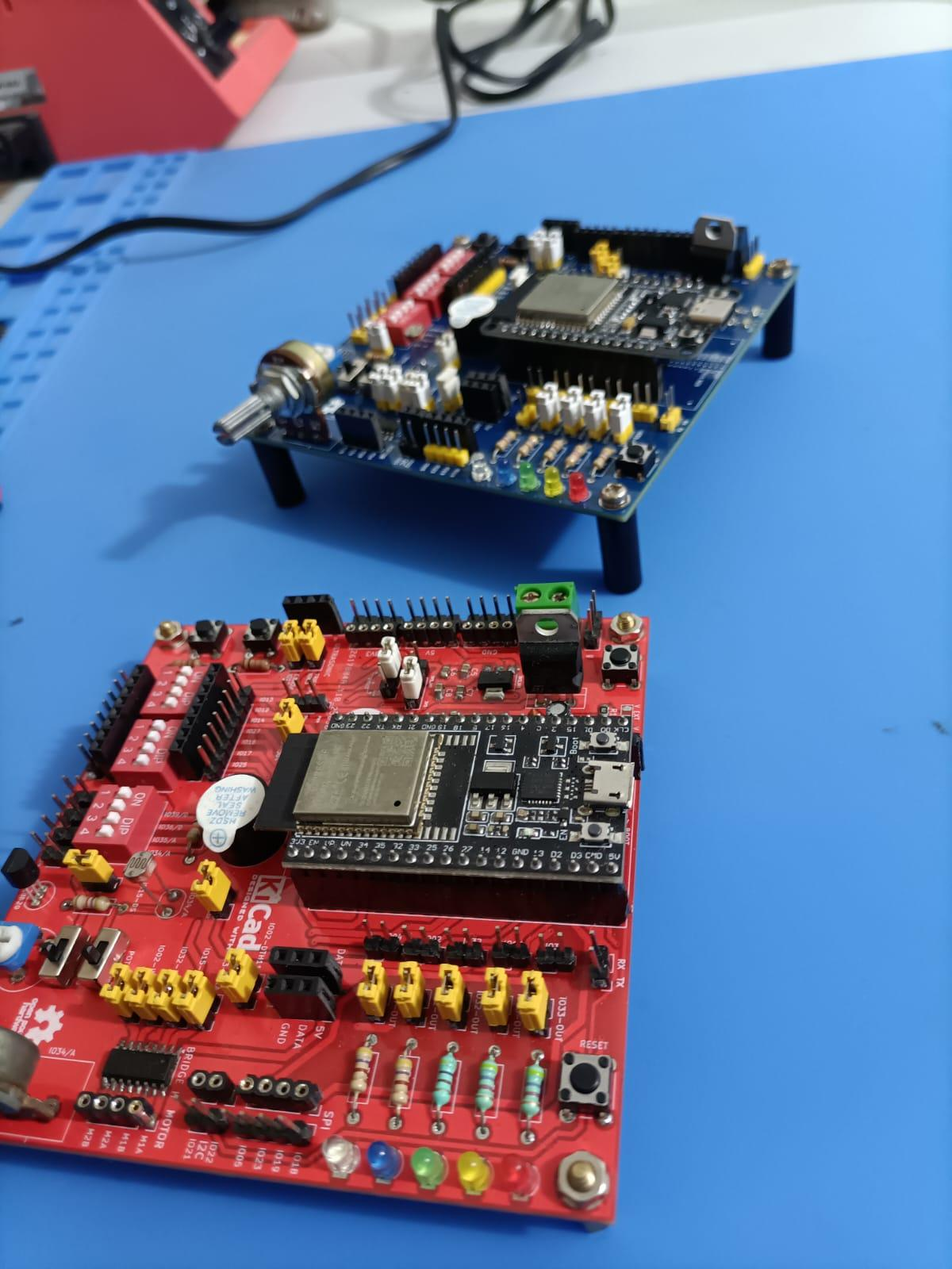LED: (497, 1145, 542, 1206), (451, 1145, 494, 1197), (364, 1137, 401, 1189), (409, 1143, 449, 1190), (316, 1136, 358, 1174), (515, 459, 539, 498), (490, 452, 515, 487), (566, 470, 591, 504), (465, 450, 491, 482), (541, 464, 563, 497)
Resistencia: (53, 887, 122, 913), (392, 1052, 417, 1112), (436, 1049, 461, 1109), (525, 1061, 550, 1121), (476, 1054, 500, 1114), (352, 1043, 376, 1103), (231, 657, 279, 676), (171, 653, 208, 672), (186, 816, 205, 849), (533, 427, 548, 460), (579, 438, 594, 470), (554, 430, 569, 462), (507, 421, 522, 453), (605, 441, 620, 473), (359, 351, 390, 365), (499, 258, 520, 267)
